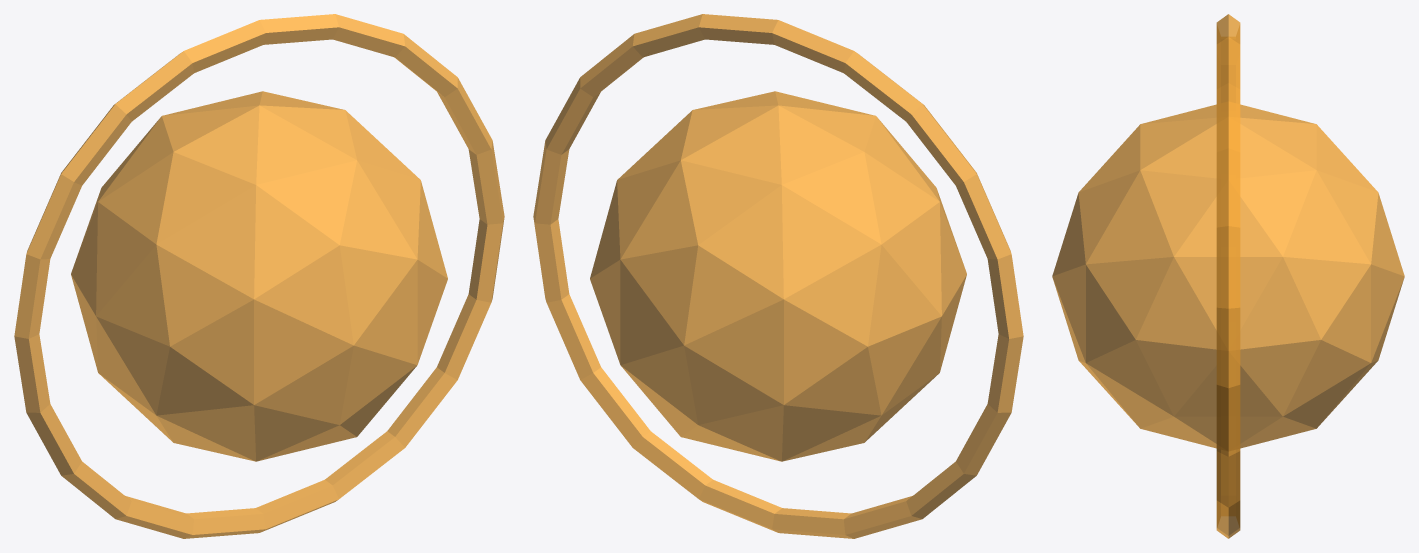
The model's file is ancient_bone_pile.glb.
The picture shows the model from 3 angles, left to right: view 1: azimuth 30°, elevation 25°; view 2: azimuth 150°, elevation 25°; view 3: azimuth 270°, elevation 25°; orthographic projection. The views are drawn at different scales.
Parts seen in each view (by area): view 1: resource_core, resource_ring; view 2: resource_core, resource_ring; view 3: resource_core, resource_ring.
Part boxes in pixels (left/top/right/bottom): resource_core: left=71, top=91, right=447, bottom=461; resource_ring: left=14, top=14, right=504, bottom=538; resource_core: left=590, top=91, right=966, bottom=461; resource_ring: left=533, top=14, right=1023, bottom=538; resource_core: left=1052, top=104, right=1404, bottom=448; resource_ring: left=1216, top=14, right=1240, bottom=538.
Size of the model in its own units: 1.05 by 1.05 by 0.7.
